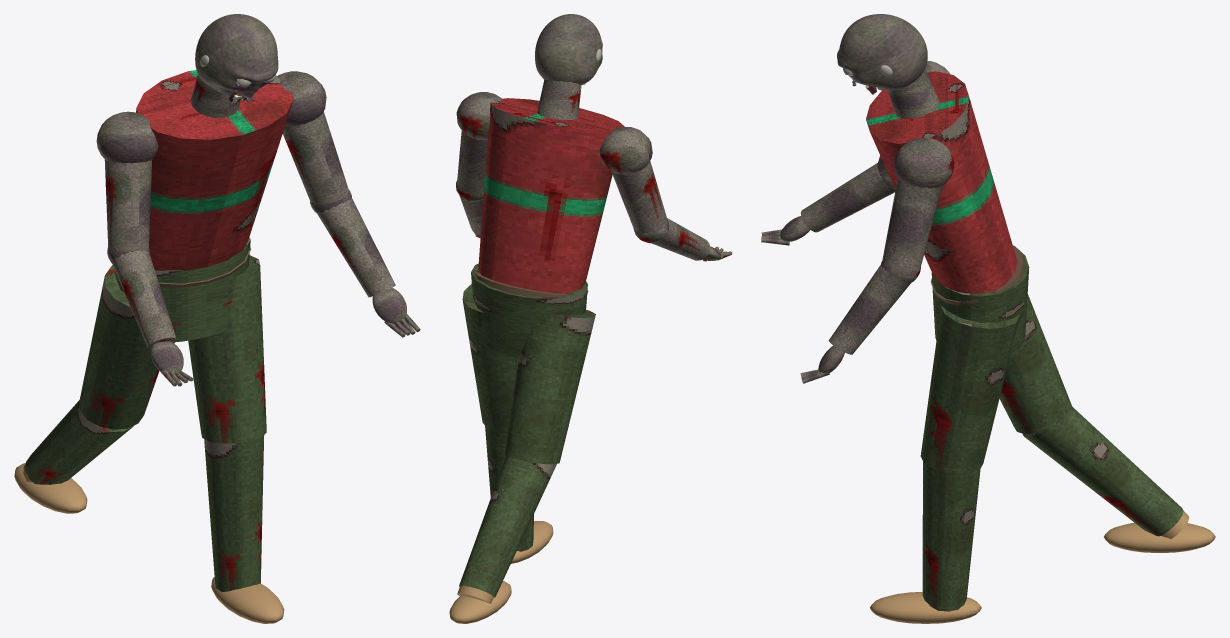
File: Zombie_068.glb
3 renders of one model, left to right at view 1: azimuth 30°, elevation 25°; view 2: azimuth 150°, elevation 25°; view 3: azimuth 270°, elevation 25°, orthographic. The views are drawn at different scales.
Parts seen in each view (by area): view 1: Zombie_068, object 16, object 10, object 3, object 11, object 4; view 2: Zombie_068, object 16, object 3, object 10; view 3: Zombie_068, object 16, object 10, object 3.
Boxes of the visible parts, box(x1,y1,x2,y2) form: Zombie_068: box(14, 70, 349, 623); object 16: box(195, 14, 278, 98); object 10: box(317, 198, 395, 297); object 3: box(112, 250, 176, 349); object 11: box(372, 287, 406, 323); object 4: box(151, 341, 183, 372); Zombie_068: box(449, 79, 667, 623); object 16: box(535, 14, 602, 85); object 3: box(651, 218, 710, 260); object 10: box(459, 196, 483, 234); Zombie_068: box(866, 61, 1215, 623); object 16: box(837, 14, 927, 90); object 10: box(828, 265, 911, 354); object 3: box(800, 163, 895, 232).
Bounding box in the file's own units: 0.84 × 1.83 × 1.28.
Materials: 15 (5 with a texture image).
